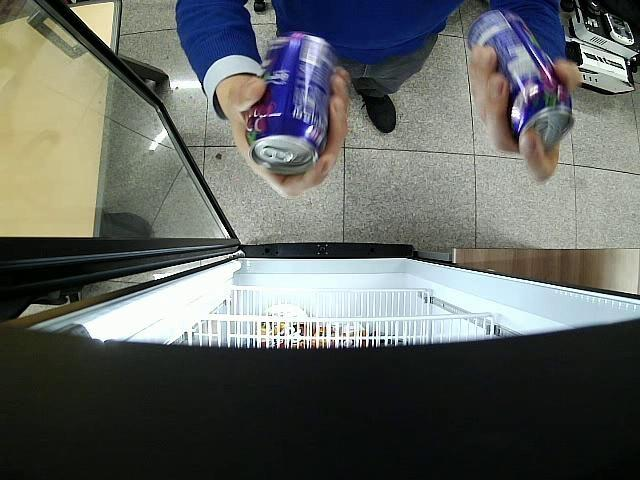14_welchsGrape: (468, 12, 573, 154), (246, 35, 336, 172)
